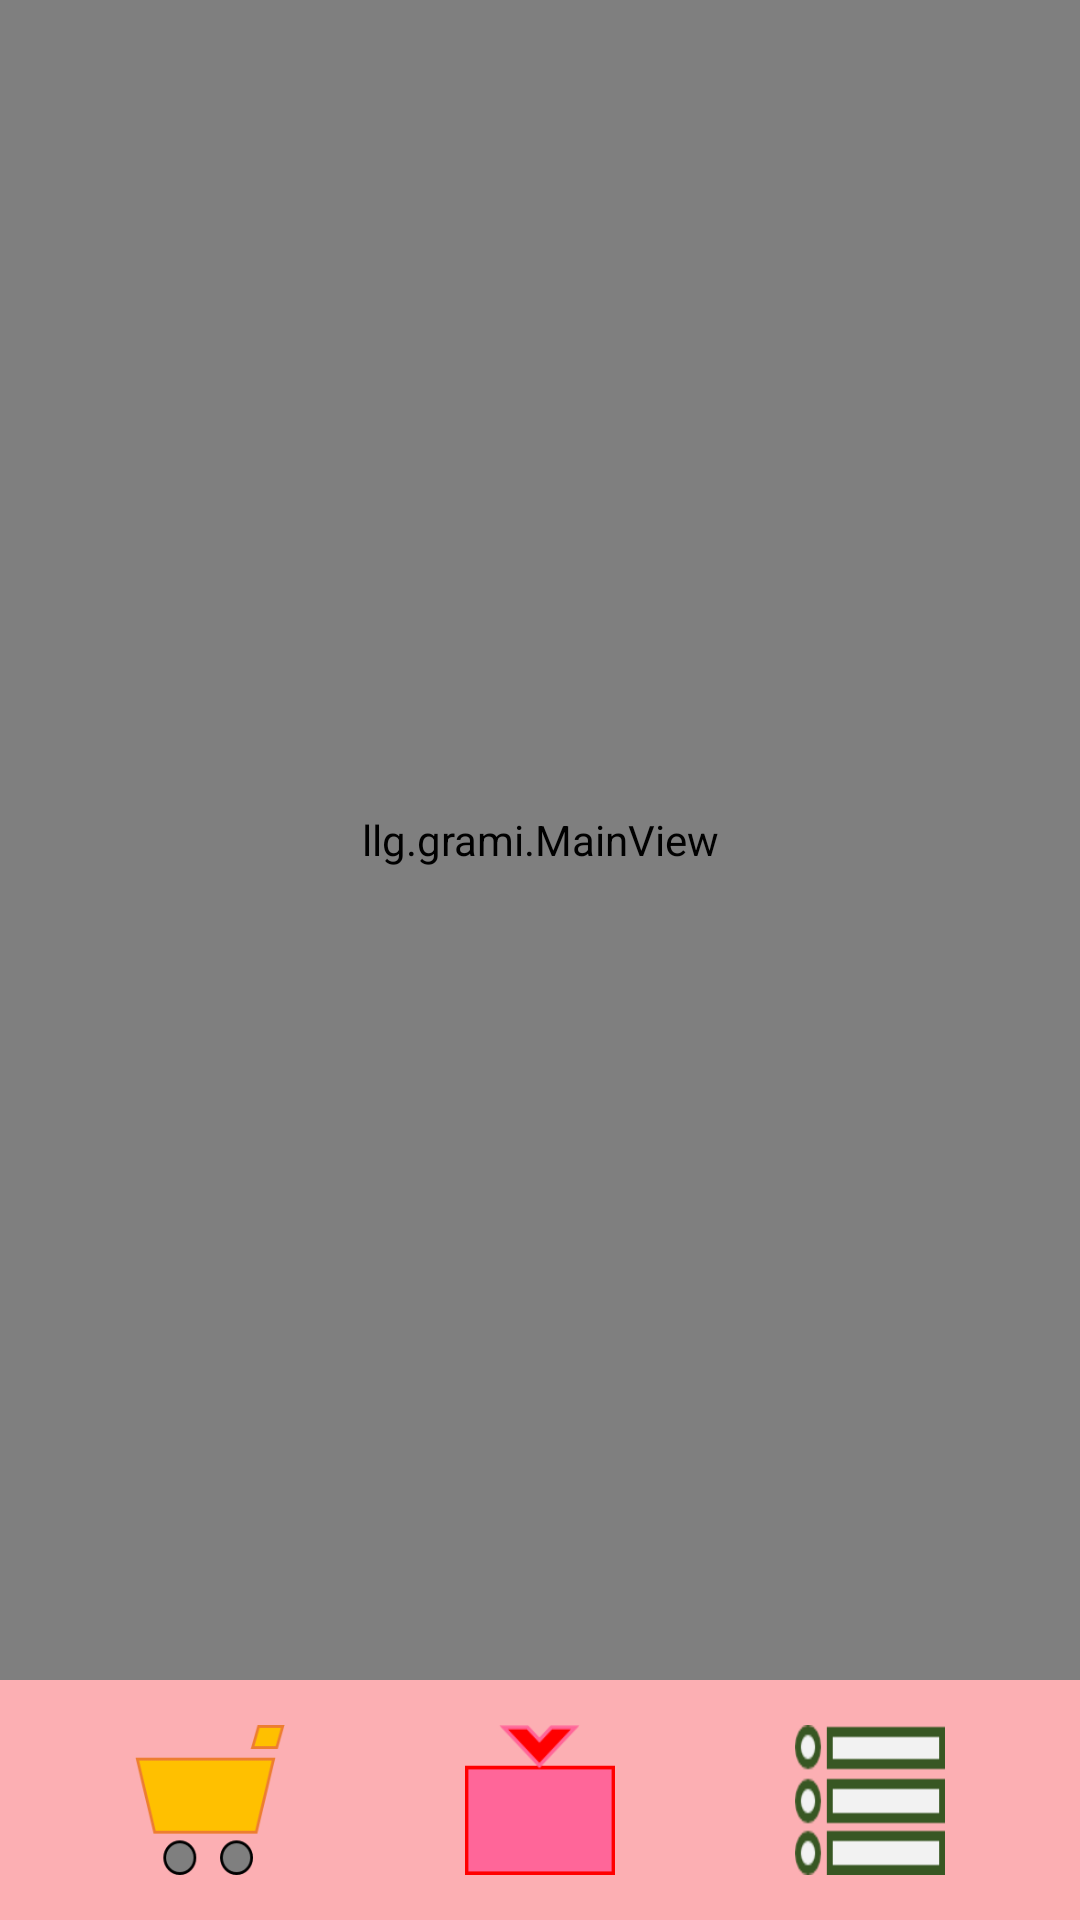

Where to tap for icons on this 1080px x 1920px app screen, as [x,y]:
inventory: [540,1800]
shop: [210,1800]
